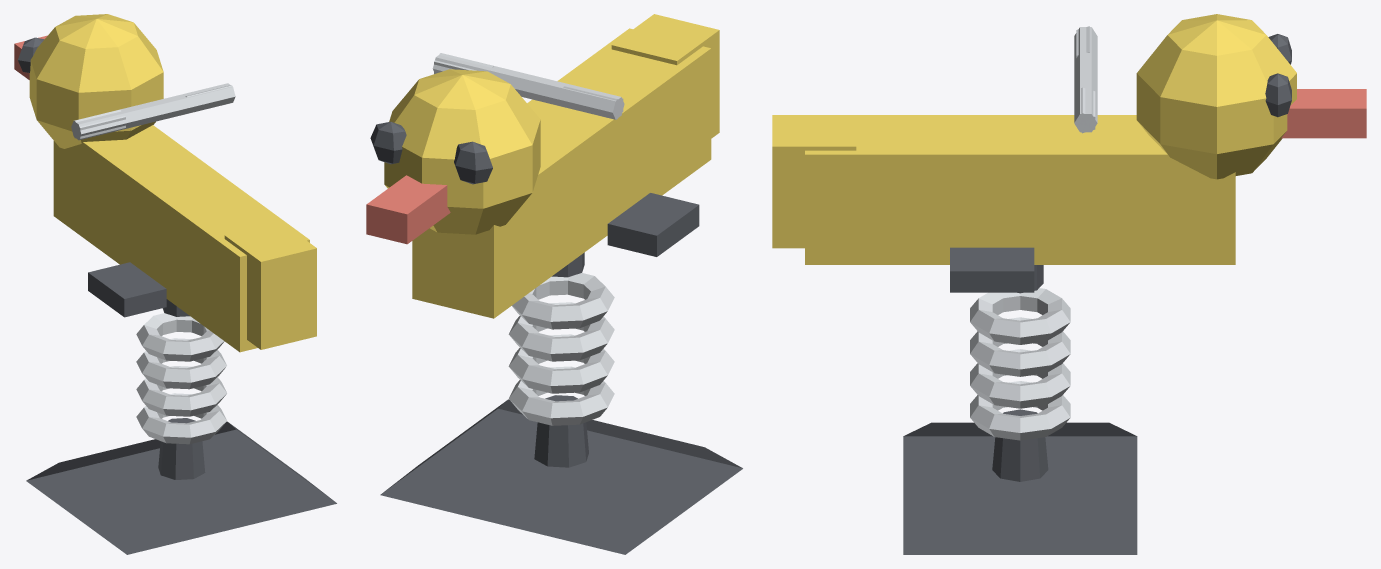
File: 33657-Duck-Spring-Rocker-City-Park-and-Playground.glb
3 views of the same model, side by side, from view 1: azimuth 30°, elevation 25°; view 2: azimuth 150°, elevation 25°; view 3: azimuth 270°, elevation 25° (orthographic). The views are drawn at different scales.
Parts seen in each view (by area): view 1: rocker/sunflower, spring-rocker-duck-charcoal, spring-rocker-duck-steel, rocker/charcoal, rocker/steel; view 2: rocker/sunflower, spring-rocker-duck-charcoal, spring-rocker-duck-steel, rocker/charcoal, rocker/poppy, rocker/steel; view 3: rocker/sunflower, spring-rocker-duck-charcoal, spring-rocker-duck-steel, rocker/charcoal, rocker/poppy, rocker/steel.
Boxes of the visible parts, x1,y1,x2,y2 form: rocker/sunflower: (29, 14, 316, 352); spring-rocker-duck-charcoal: (26, 418, 336, 554); spring-rocker-duck-steel: (136, 313, 226, 444); rocker/charcoal: (18, 37, 189, 317); rocker/steel: (71, 83, 235, 140); rocker/sunflower: (384, 14, 719, 318); spring-rocker-duck-charcoal: (380, 395, 742, 554); spring-rocker-duck-steel: (508, 273, 614, 425); rocker/charcoal: (370, 121, 699, 277); rocker/poppy: (366, 175, 450, 244); rocker/steel: (432, 53, 624, 119); rocker/sunflower: (772, 14, 1296, 264); spring-rocker-duck-charcoal: (903, 409, 1137, 554); spring-rocker-duck-steel: (970, 288, 1070, 440); rocker/charcoal: (950, 34, 1291, 293); rocker/poppy: (1281, 89, 1366, 138); rocker/steel: (1074, 26, 1097, 133).
Bounding box in the file's own units: 0.6 × 1.12 × 1.27.
